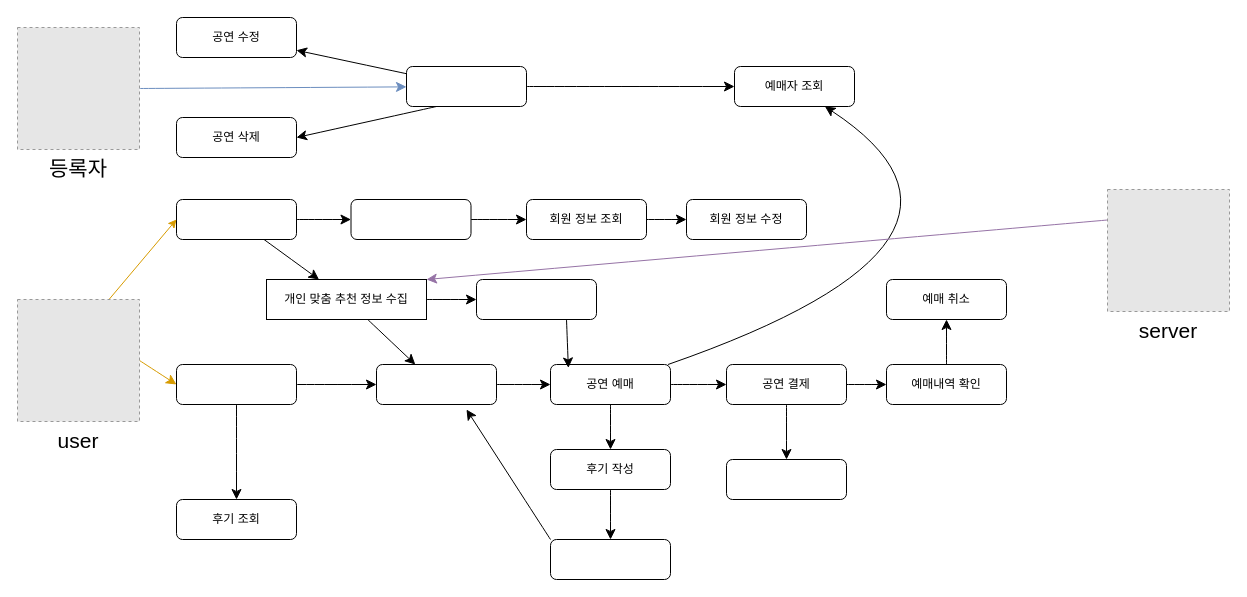
Image size: 1247x597. Some labels were removed from this diagram. Grey dashed boxes stand in for pictures. Each missing label, with the centre of its shape:
"공연 검색" belongs at pixel 236 384.
"공연 등록" belongs at pixel 466 86.
"공연 목록 조회" belongs at pixel 436 384.
"로그인" belongs at pixel 410 219.
"외부 결제 시스템" belongs at pixel 786 479.
"추천 목록" belongs at pixel 536 299.
"회원가입" belongs at pixel 236 219.
"후기 기반 알고리즘" belongs at pixel 610 559.
